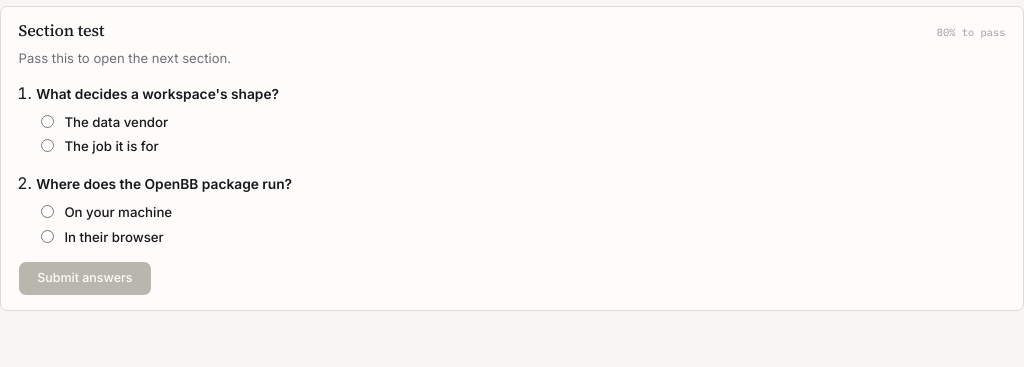
Scenario: SectionTestCard (GRS-0226) › sends the chosen answers and reports the server's verdict, not its own
Click the radio button labelled "The job it is for" at (48, 146), box [41,139,54,152]
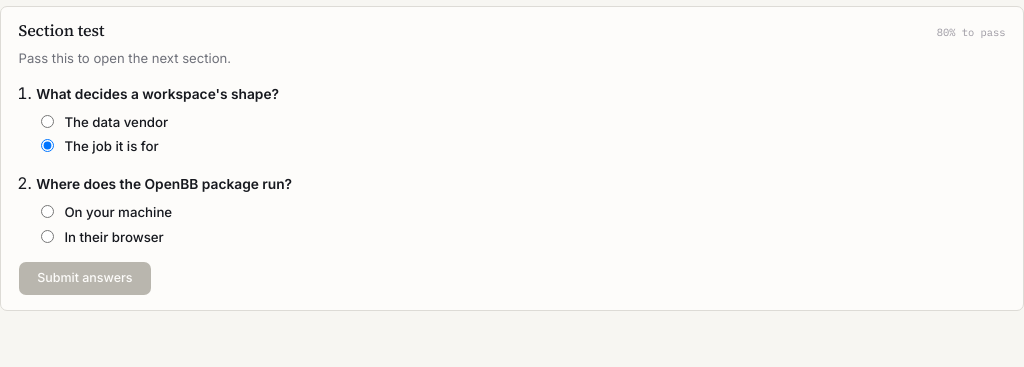
Click the radio button labelled "On your machine" at (48, 212), box [41,205,54,218]
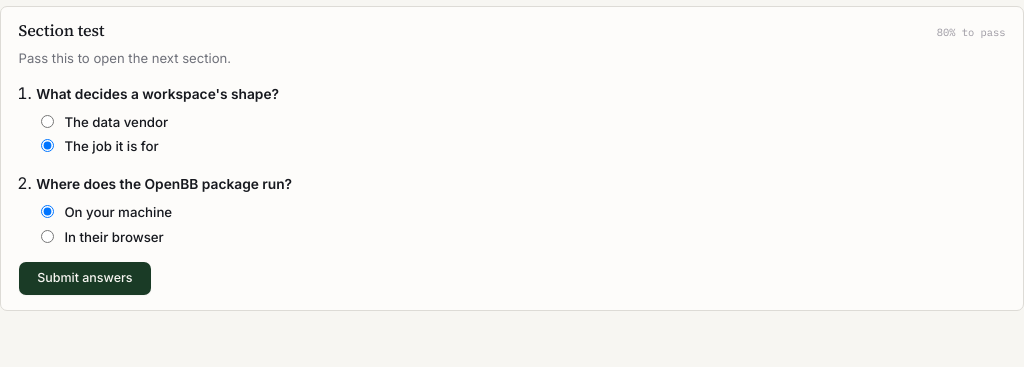
Click the button "Submit answers" at (85, 278), box [19,262,151,295]
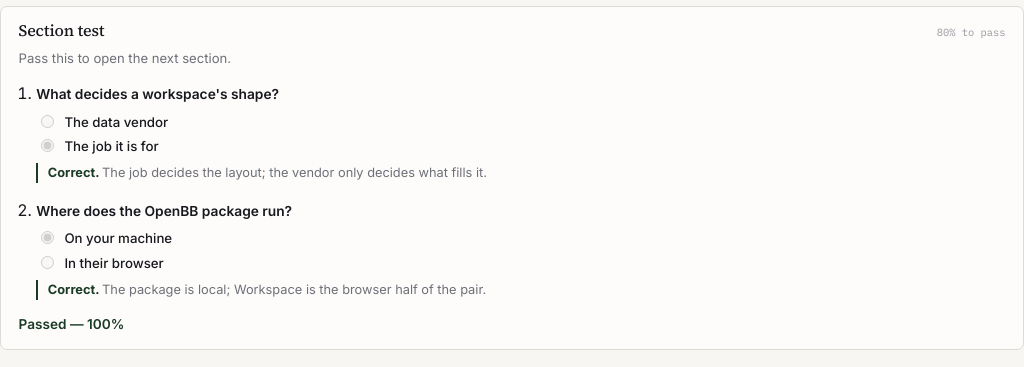
Check: the text "Passed — 100%" is shown, box [19,314,124,335]
